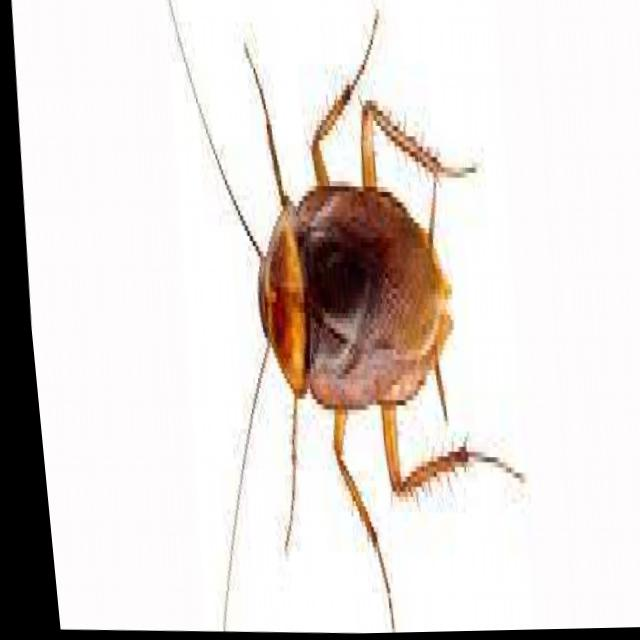Cockroach: (135, 0, 545, 638)
